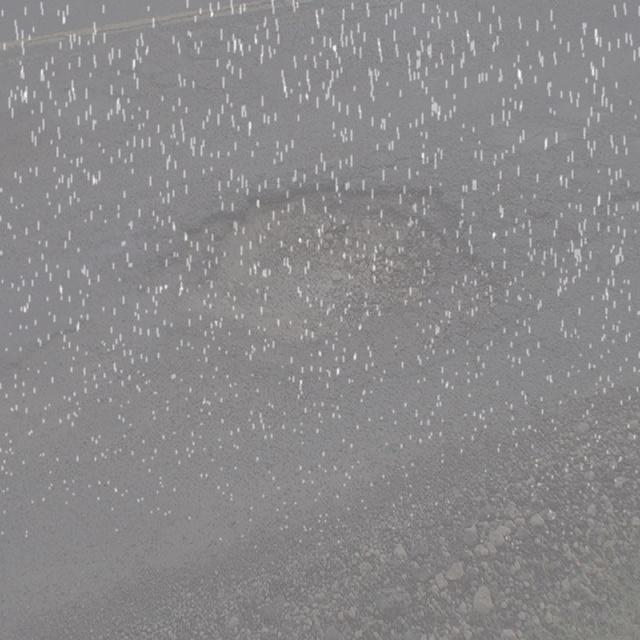Pothole: (134, 159, 467, 354)
